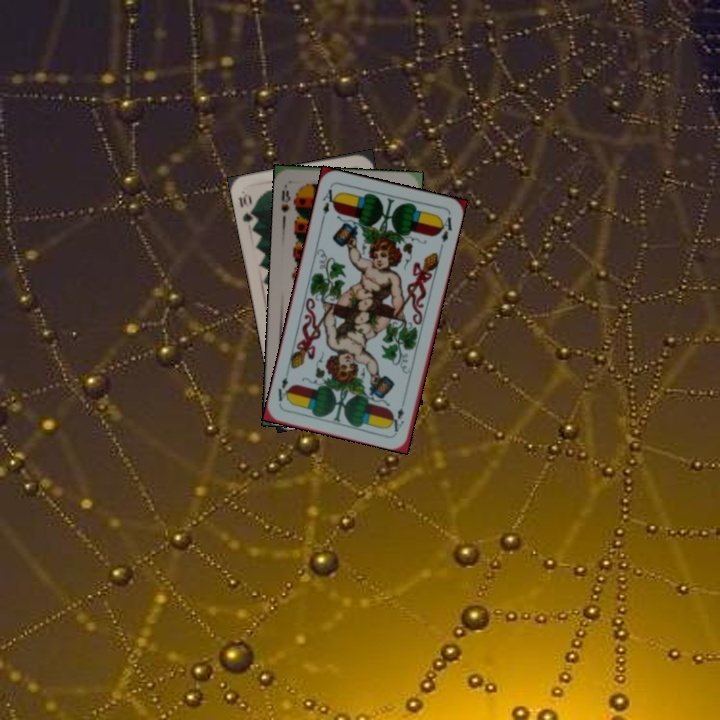EA: (318, 185, 340, 223), (390, 394, 408, 435)
G10: (235, 190, 259, 229)
S8: (277, 180, 293, 215)
